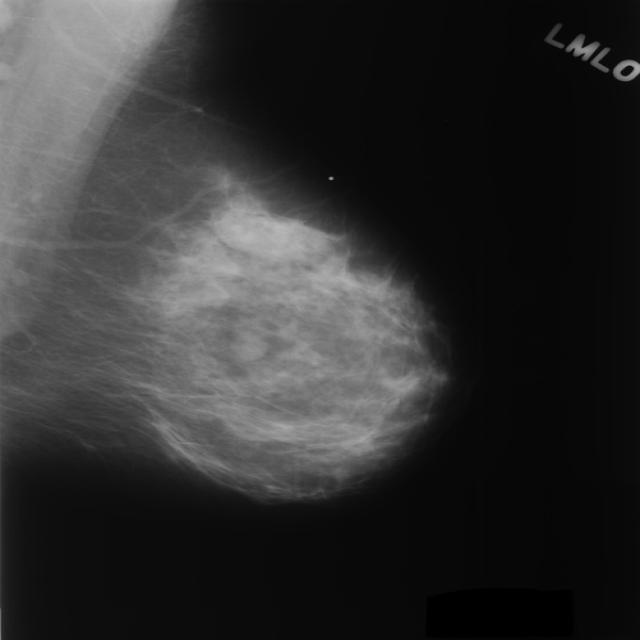tumour: (227, 329, 267, 360)
